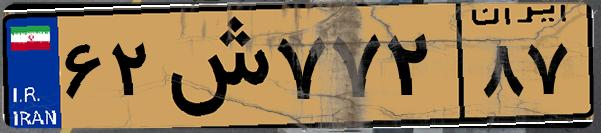2: (385, 28, 445, 110), (110, 28, 158, 98)
6: (57, 26, 110, 100)
7: (270, 28, 330, 110), (330, 28, 385, 110), (525, 38, 570, 115)
8: (475, 38, 525, 113)
ش: (158, 12, 270, 120)
